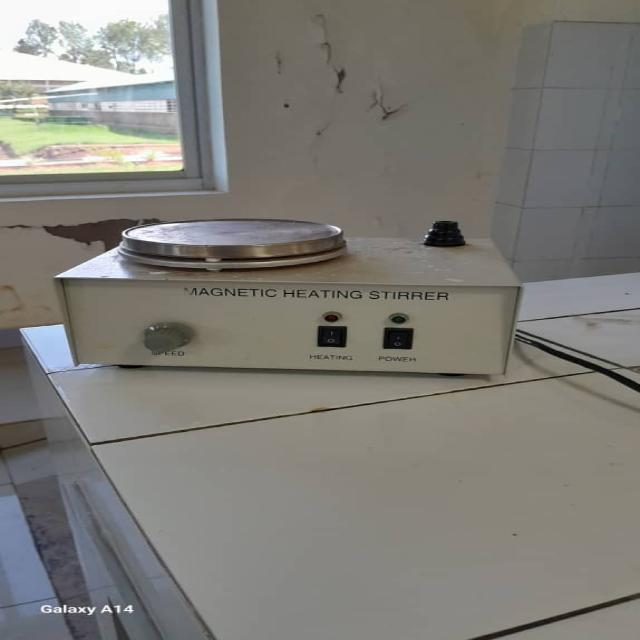Magnetic Stirrer: (56, 218, 526, 387)
